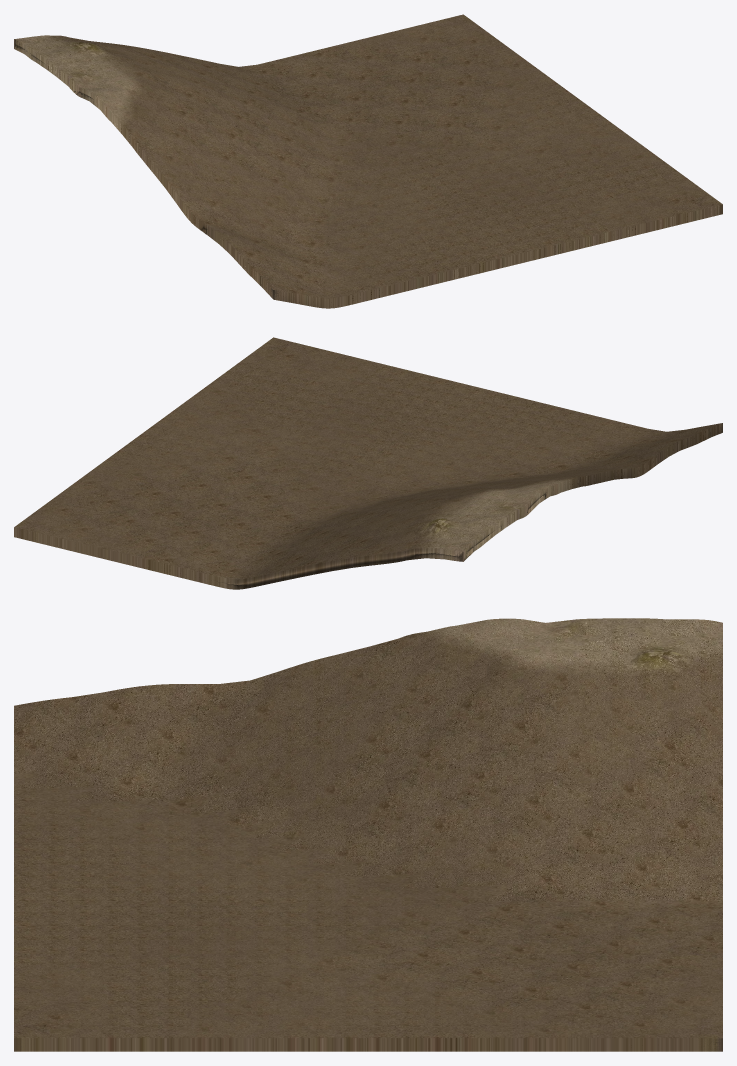
File: chunk_5_3.glb
3 views of the same model, one above another, from view 1: azimuth 30°, elevation 25°; view 2: azimuth 150°, elevation 25°; view 3: azimuth 270°, elevation 25° (orthographic). The views are drawn at different scales.
Parts seen in each view (by area): view 1: Terrain_L0, Terrain_L2, Terrain_L1; view 2: Terrain_L0, Terrain_L2, Terrain_L1; view 3: Terrain_L0, Terrain_L2, Terrain_L1.
Part boxes in pixels (bbox=[...]): Terrain_L0: bbox=[14, 14, 722, 308]; Terrain_L2: bbox=[14, 35, 702, 305]; Terrain_L1: bbox=[14, 35, 722, 308]; Terrain_L0: bbox=[14, 337, 722, 589]; Terrain_L2: bbox=[14, 424, 722, 587]; Terrain_L1: bbox=[14, 423, 722, 589]; Terrain_L0: bbox=[14, 618, 722, 1051]; Terrain_L2: bbox=[14, 619, 722, 1051]; Terrain_L1: bbox=[14, 619, 722, 1051].
Size of the model in its own units: 96 by 19.99 by 96.
Materials: 1 (1 with a texture image).
